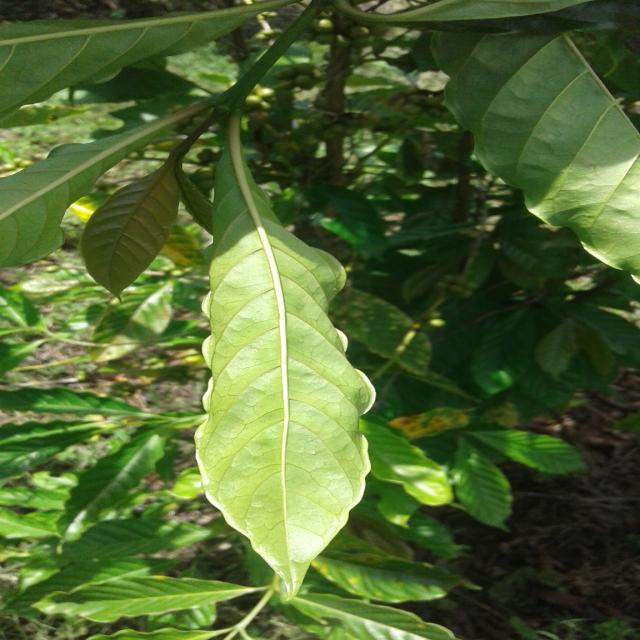Sanas: (193, 112, 377, 603)
